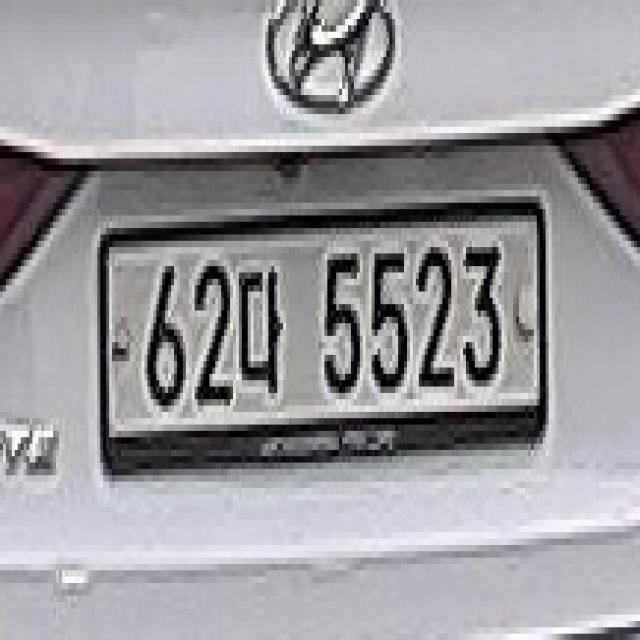2: (415, 236, 458, 404), (192, 259, 234, 412)
3: (463, 239, 504, 394)
5: (319, 238, 362, 400), (367, 240, 410, 402)
6: (142, 262, 187, 417)
da: (237, 260, 288, 412)
license_plate: (85, 202, 552, 458)
